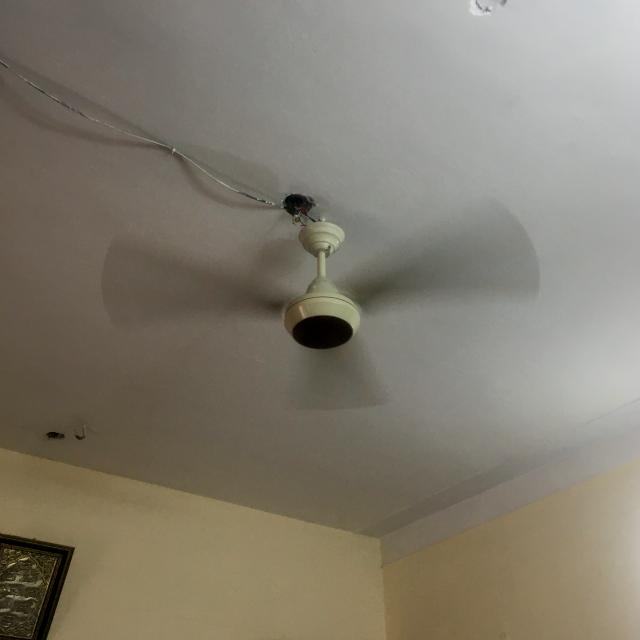on: (94, 191, 549, 422)
